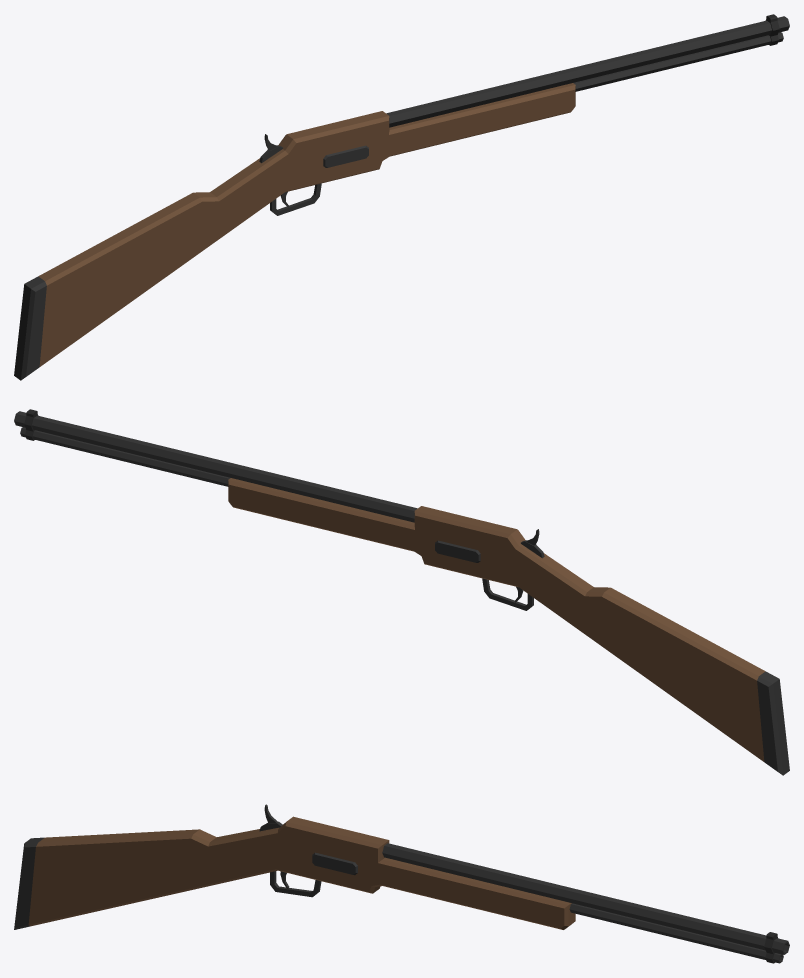
The model's file is SM_Props_Interior_Shop_Gun_Rifle.fbx.
3 views of the same model, one above another, from view 1: azimuth 30°, elevation 25°; view 2: azimuth 150°, elevation 25°; view 3: azimuth 330°, elevation 25° (orthographic).
Parts seen in each view (by area): view 1: SM_Props_Interior_Shop_Gun_Rifle; view 2: SM_Props_Interior_Shop_Gun_Rifle; view 3: SM_Props_Interior_Shop_Gun_Rifle.
Part boxes in pixels (bbox=[...]): SM_Props_Interior_Shop_Gun_Rifle: bbox=[14, 14, 789, 380]; SM_Props_Interior_Shop_Gun_Rifle: bbox=[14, 409, 789, 775]; SM_Props_Interior_Shop_Gun_Rifle: bbox=[14, 804, 789, 963].
Bounding box in the file's own units: 108 × 24.62 × 3.24.
